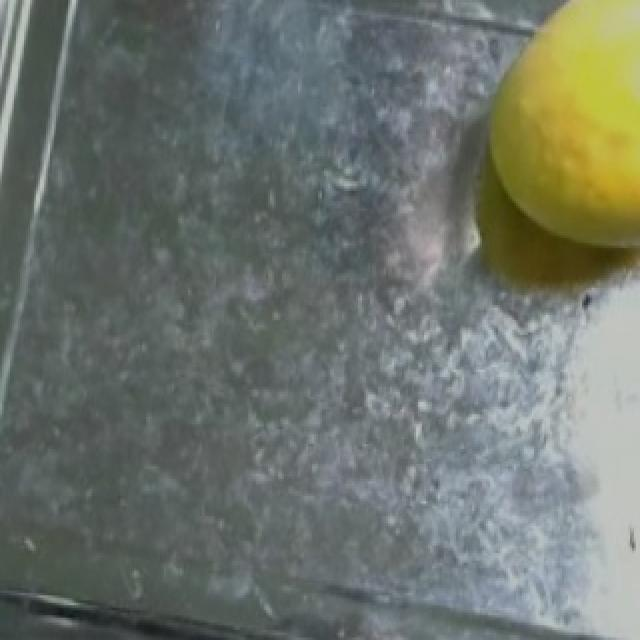fruit: (458, 0, 640, 298)
